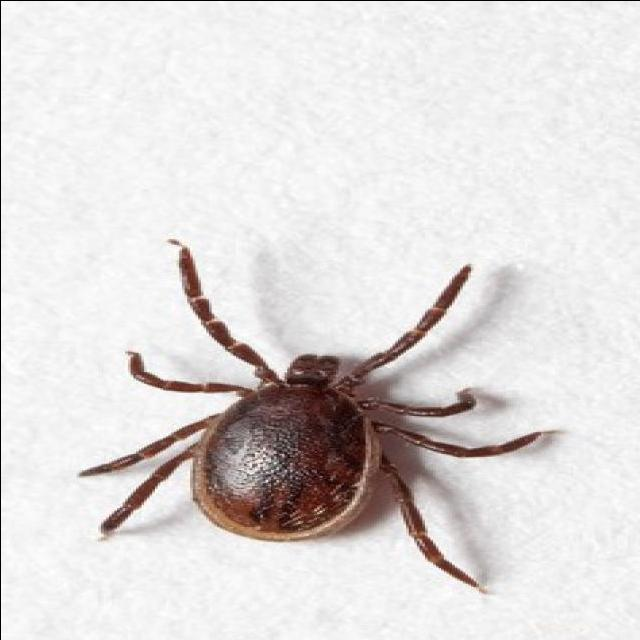Ixodes Ricinus-M: (78, 240, 562, 592)
